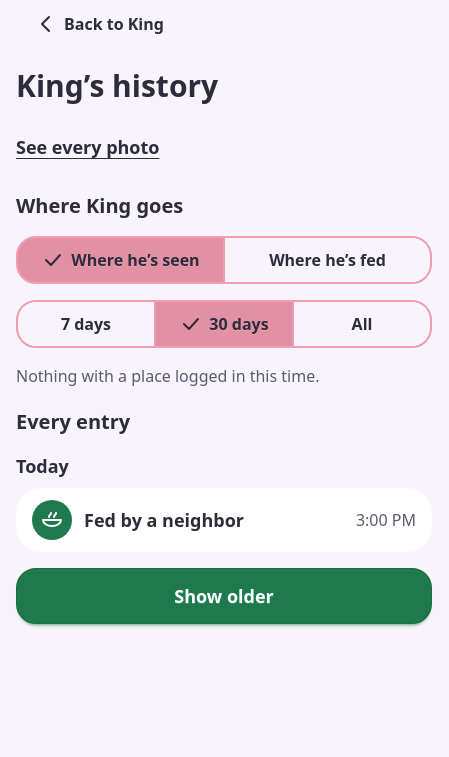
Test: HistoryPage — every entry › shows older entries on request, after the last one shown, and moves focus to the first of them
Click the button "Show older".
click(224, 596)  # box [16,568,432,624]
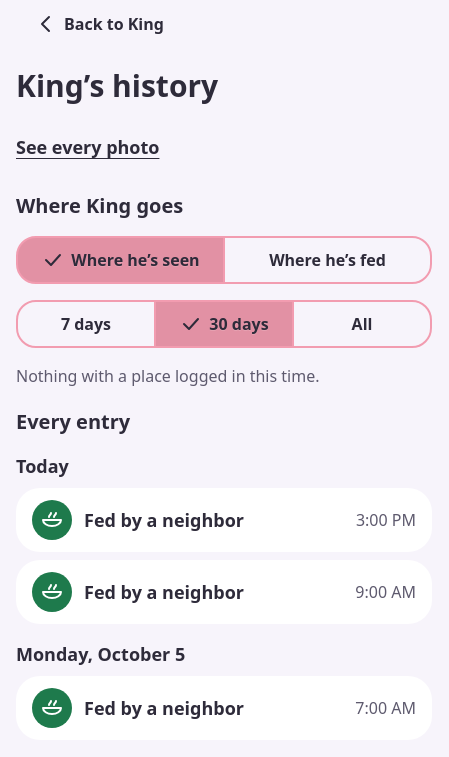
expect the button "Show older" is gone: met
